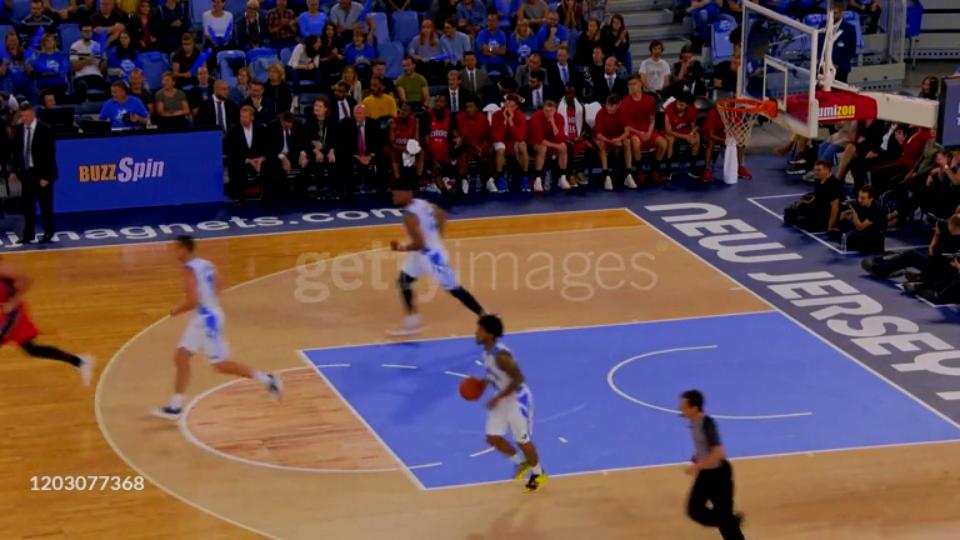hoop: (712, 92, 784, 121)
